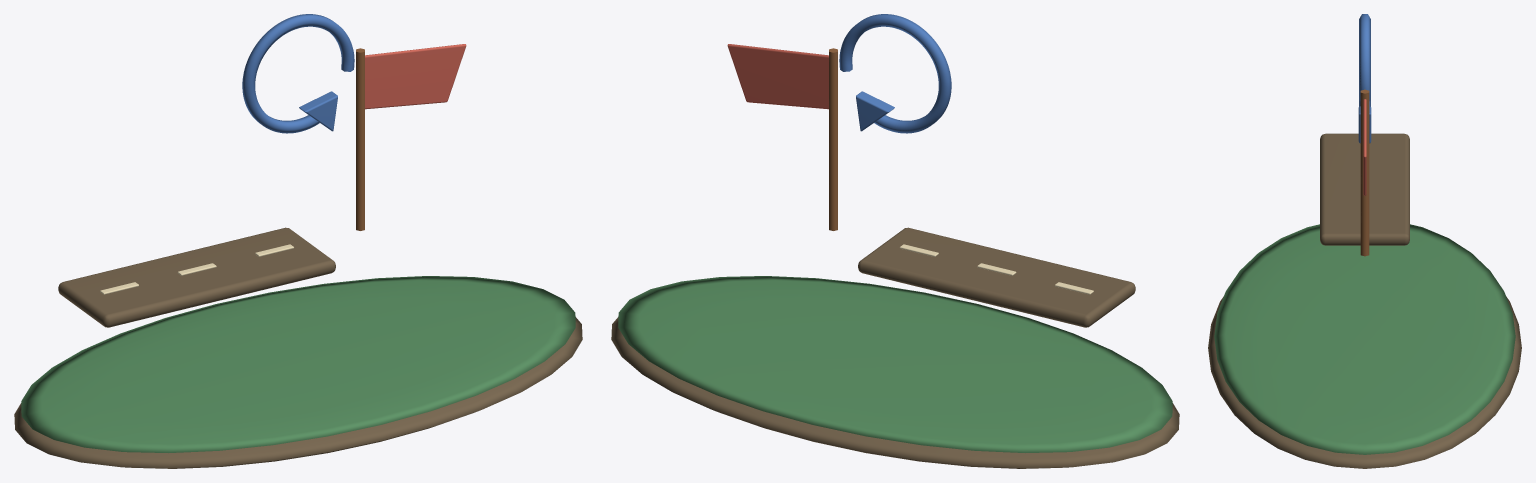
Rendered from complete-second-road-complete-round.glb.
3 views of the same model, side by side, from view 1: azimuth 30°, elevation 25°; view 2: azimuth 150°, elevation 25°; view 3: azimuth 270°, elevation 25° (orthographic). The views are drawn at different scales.
Visible parts, largest first — view 1: complete-second-road-complete-round_surface_01, complete-second-road-complete-round_surface_00, complete-second-road-complete-round_surface_04, complete-second-road-complete-round_surface_05, complete-second-road-complete-round_surface_03, complete-second-road-complete-round_surface_02; view 2: complete-second-road-complete-round_surface_01, complete-second-road-complete-round_surface_00, complete-second-road-complete-round_surface_04, complete-second-road-complete-round_surface_05, complete-second-road-complete-round_surface_03, complete-second-road-complete-round_surface_02; view 3: complete-second-road-complete-round_surface_01, complete-second-road-complete-round_surface_00, complete-second-road-complete-round_surface_03, complete-second-road-complete-round_surface_05, complete-second-road-complete-round_surface_04.
Part boxes in pixels (<box>): complete-second-road-complete-round_surface_01: <box>21,276,575,452</box>; complete-second-road-complete-round_surface_00: <box>14,227,582,468</box>; complete-second-road-complete-round_surface_04: <box>365,44,466,109</box>; complete-second-road-complete-round_surface_05: <box>242,14,354,133</box>; complete-second-road-complete-round_surface_03: <box>356,48,364,230</box>; complete-second-road-complete-round_surface_02: <box>100,244,294,294</box>; complete-second-road-complete-round_surface_01: <box>618,276,1172,452</box>; complete-second-road-complete-round_surface_00: <box>611,227,1179,468</box>; complete-second-road-complete-round_surface_04: <box>727,44,828,109</box>; complete-second-road-complete-round_surface_05: <box>839,14,951,133</box>; complete-second-road-complete-round_surface_03: <box>829,48,837,230</box>; complete-second-road-complete-round_surface_02: <box>899,244,1093,294</box>; complete-second-road-complete-round_surface_01: <box>1214,224,1515,454</box>; complete-second-road-complete-round_surface_00: <box>1208,133,1521,468</box>; complete-second-road-complete-round_surface_03: <box>1360,89,1369,256</box>; complete-second-road-complete-round_surface_05: <box>1358,14,1371,143</box>; complete-second-road-complete-round_surface_04: <box>1363,99,1366,195</box>.
Size of the model in its own units: 4.56 by 3.02 by 2.5.
